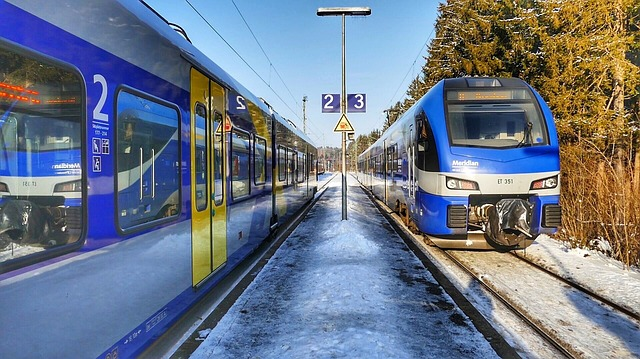train1: (0, 1, 318, 356)
train2: (352, 73, 563, 249)
